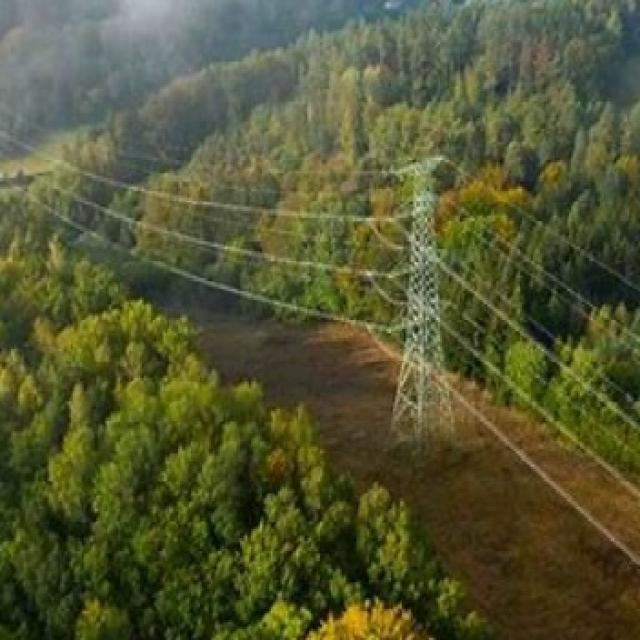utility poles: (360, 117, 489, 465)
